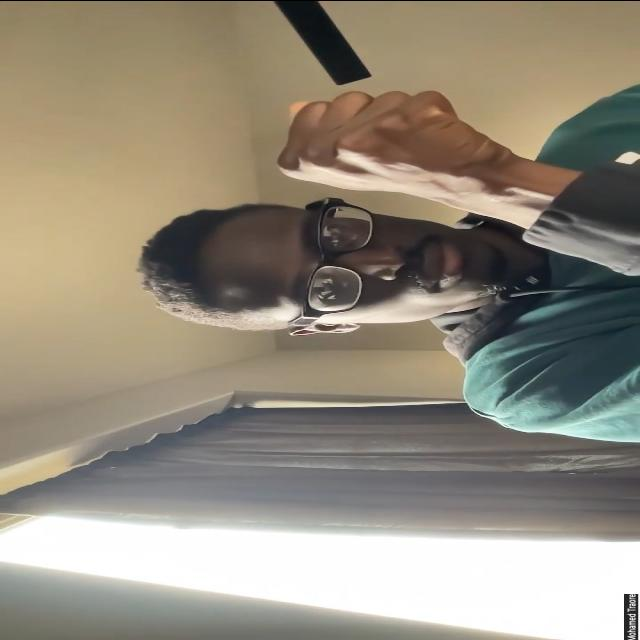Rock: (277, 89, 504, 194)
